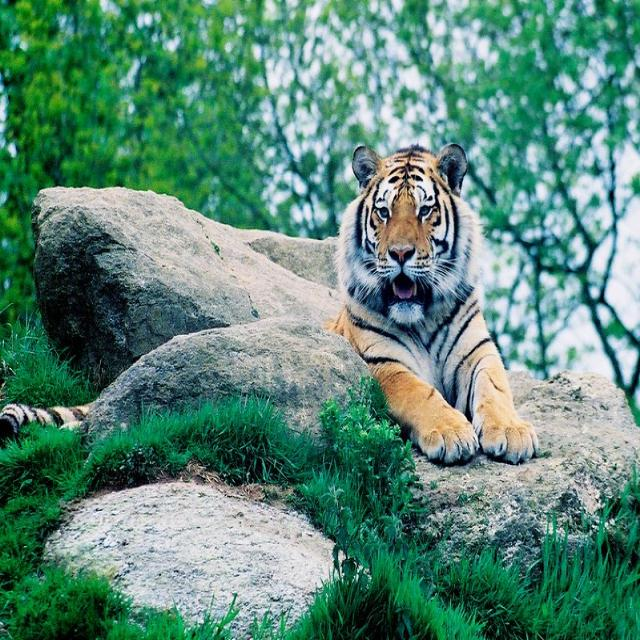Tiger: (0, 134, 543, 468)
